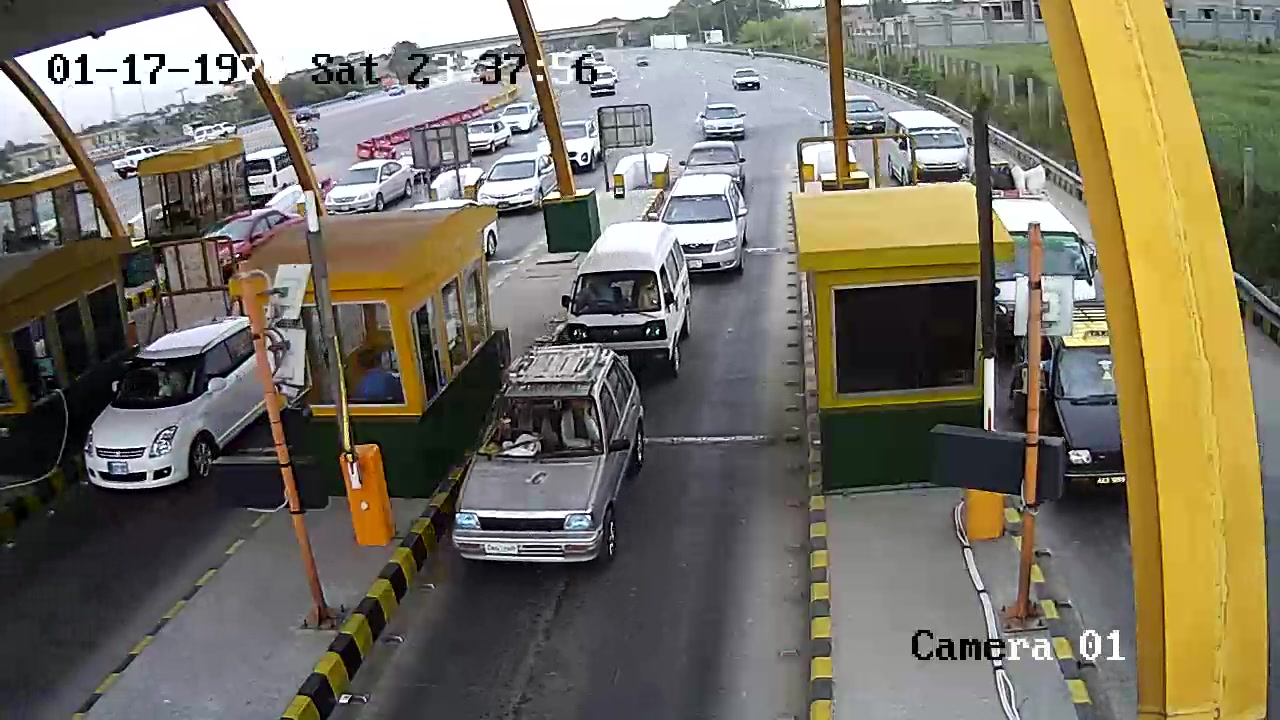F1: (449, 340, 660, 579), (561, 215, 688, 384)
